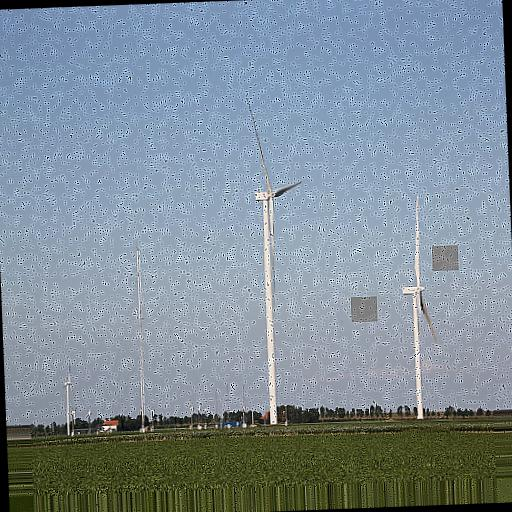wind turbine: (241, 94, 305, 427), (400, 190, 443, 425)
